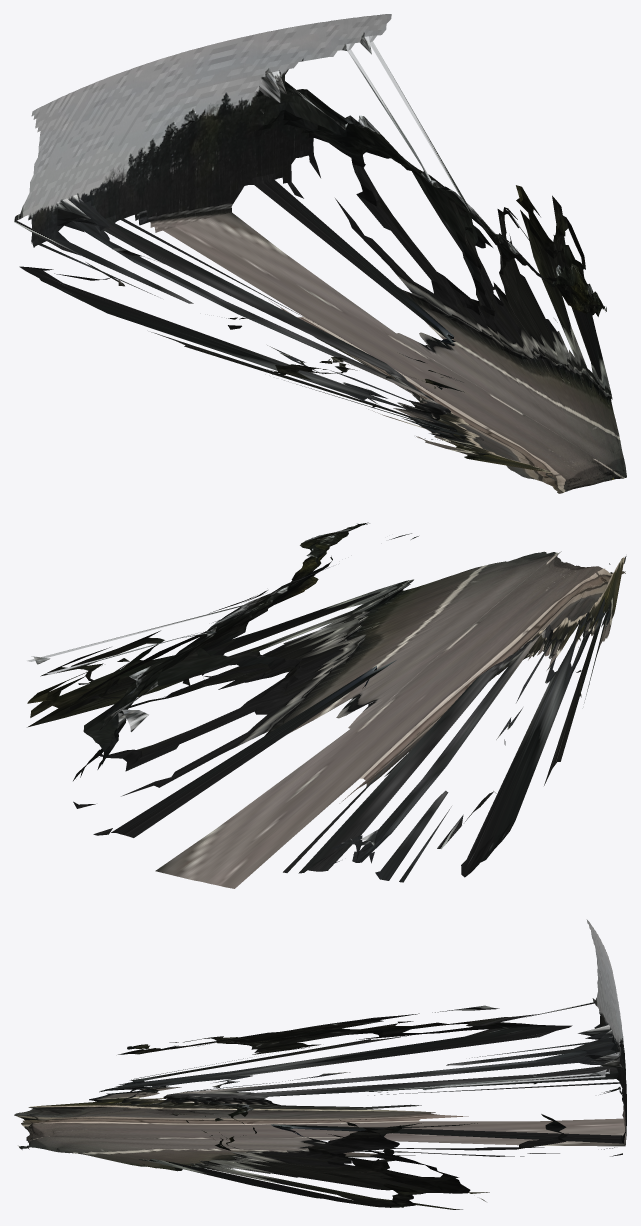
3 renders of one model, top to bottom at view 1: azimuth 30°, elevation 25°; view 2: azimuth 150°, elevation 25°; view 3: azimuth 270°, elevation 25°, orthographic. The views are drawn at different scales.
Visible parts, largest first — view 1: defaultobject; view 2: defaultobject; view 3: defaultobject.
Boxes of the visible parts, box(x1,y1,x2,y2) form: defaultobject: box(14, 14, 626, 493); defaultobject: box(27, 522, 626, 888); defaultobject: box(14, 919, 626, 1209).
Bounding box in the file's own units: 31.3 × 11.73 × 45.14.
Materials: 1 (1 with a texture image).
